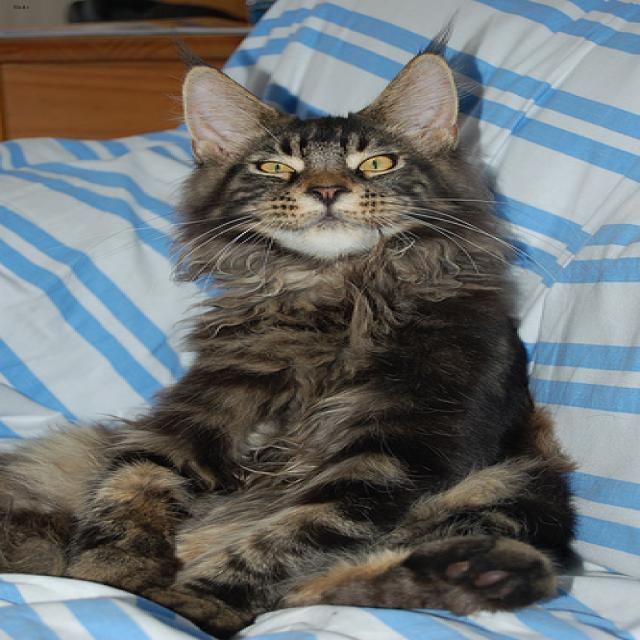Maine_Coon: (177, 48, 482, 293)
